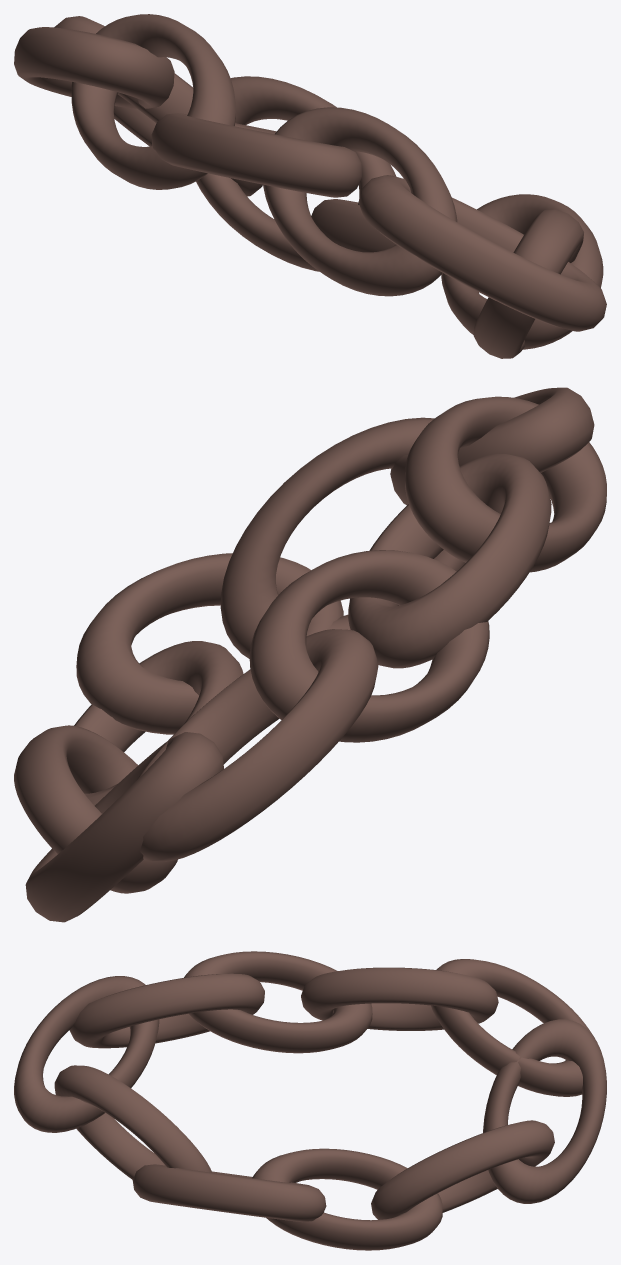
The model's file is chain.fbx.
3 renders of one model, top to bottom at view 1: azimuth 30°, elevation 25°; view 2: azimuth 150°, elevation 25°; view 3: azimuth 270°, elevation 25°, orthographic. The views are drawn at different scales.
Visible parts, largest first — view 1: Torus.005, Torus.004, Torus.000, Torus.002, Torus.006, Torus.003, Torus.018, Torus.009, Torus.007, Torus.008; view 2: Torus.006, Torus.000, Torus.002, Torus.004, Torus.009, Torus.007, Torus.018, Torus.003, Torus.005, Torus.008; view 3: Torus.007, Torus.000, Torus.008, Torus.002, Torus.004, Torus.003, Torus.005, Torus.018, Torus.006, Torus.009.
Boxes of the visible parts, x1,y1,x2,y2 form: Torus.005: (358,175,606,331); Torus.004: (263,107,457,296); Torus.000: (71,14,235,189); Torus.002: (151,113,362,197); Torus.006: (14,27,174,108); Torus.003: (196,76,396,271); Torus.018: (473,209,583,358); Torus.009: (441,194,603,349); Torus.007: (54,16,262,196); Torus.008: (311,199,442,274); Torus.006: (136,629,378,861); Torus.000: (249,550,489,742); Torus.002: (348,454,551,668); Torus.004: (405,396,606,572); Torus.009: (76,553,343,734); Torus.007: (25,732,223,922); Torus.018: (220,417,465,658); Torus.003: (14,725,177,893); Torus.005: (390,387,594,505); Torus.008: (74,641,243,805); Torus.007: (483,1019,606,1203); Torus.000: (301,967,498,1030); Torus.008: (252,1148,442,1250); Torus.002: (184,951,372,1053); Torus.004: (69,973,264,1048); Torus.003: (371,1120,554,1219); Torus.005: (14,976,159,1132); Torus.018: (54,1065,211,1179); Torus.006: (431,959,594,1096); Torus.009: (132,1164,326,1222).
Bounding box in the file's own units: 0.9621 × 0.6875 × 1.77.
